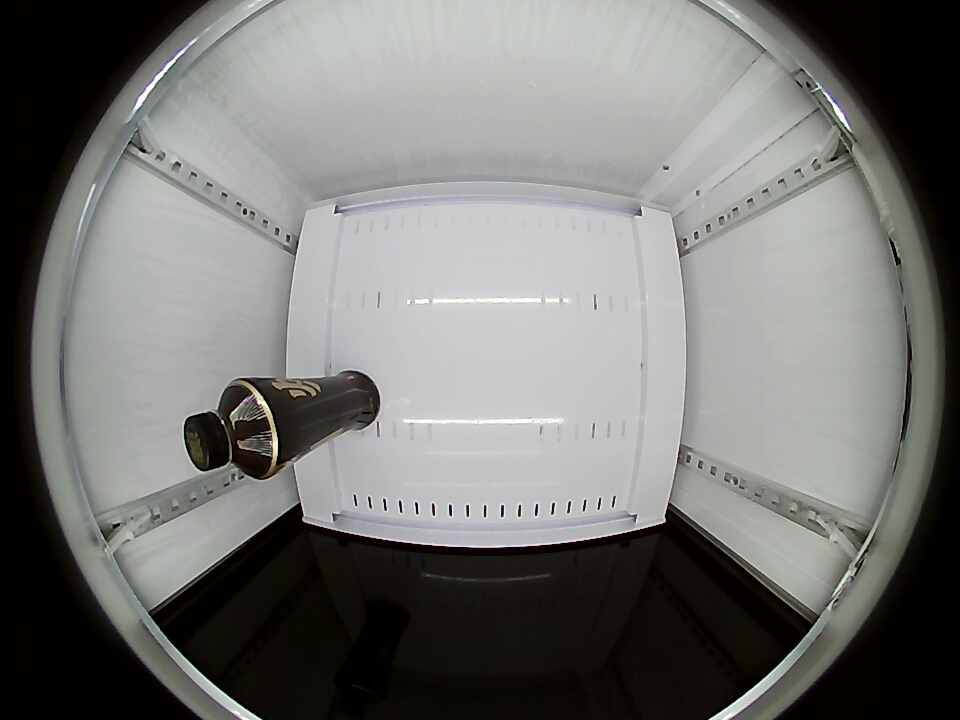rancha-1: (183, 378, 279, 479)
